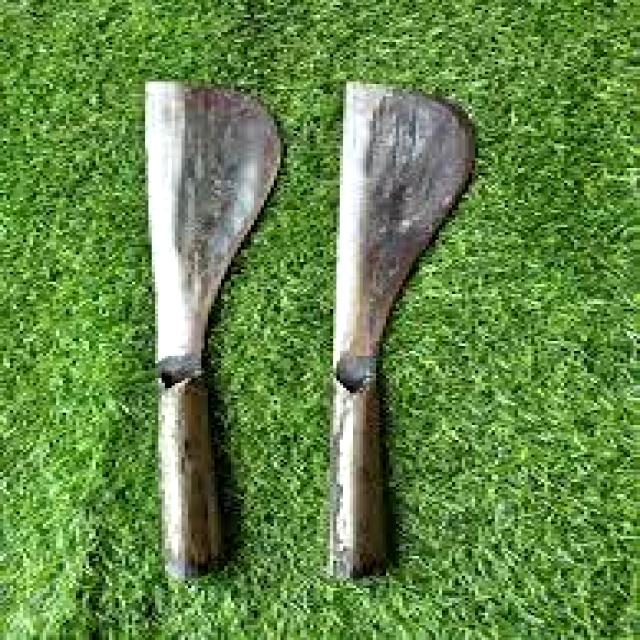eto: (140, 76, 298, 591)
